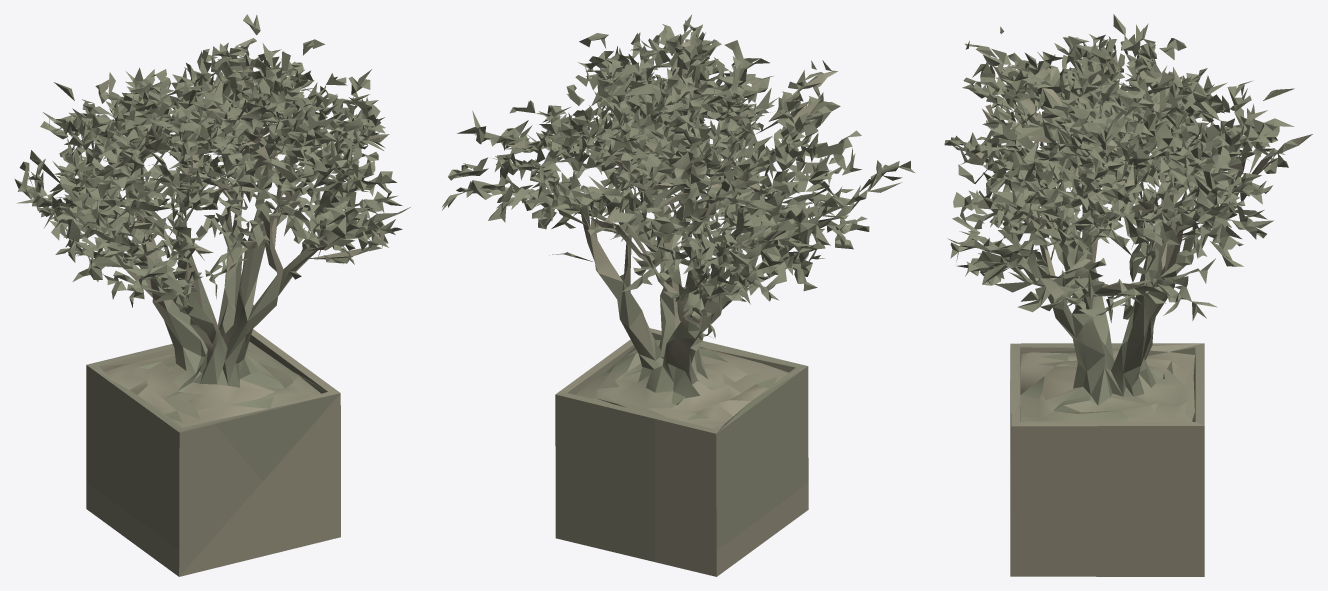
File: term_planter.glb
3 renders of one model, left to right at view 1: azimuth 30°, elevation 25°; view 2: azimuth 150°, elevation 25°; view 3: azimuth 270°, elevation 25°, orthographic. The views are drawn at different scales.
Visible parts, largest first — view 1: Mesh_0; view 2: Mesh_0; view 3: Mesh_0.
Part boxes in pixels (box(x1,y1,x2,y2)): Mesh_0: box(14, 14, 410, 576); Mesh_0: box(442, 15, 915, 576); Mesh_0: box(944, 14, 1312, 576).
Bounding box in the file's own units: 2.58 × 3.1 × 2.07.
1 material, 1 textured.
